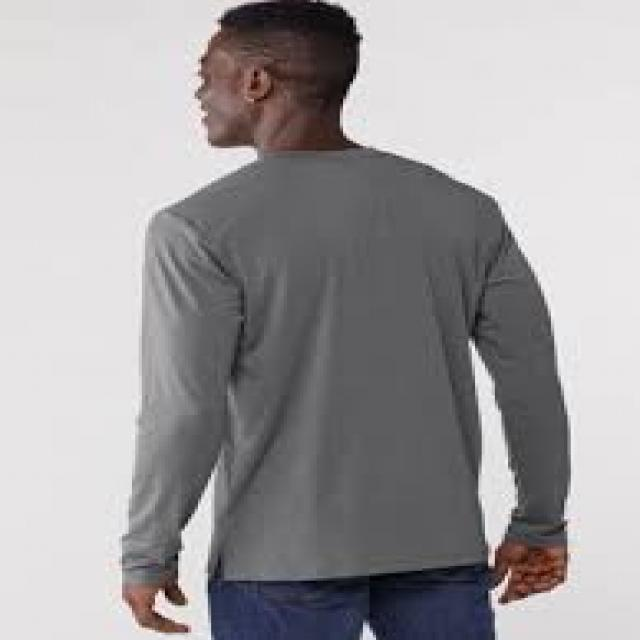plain: (117, 142, 583, 578)
